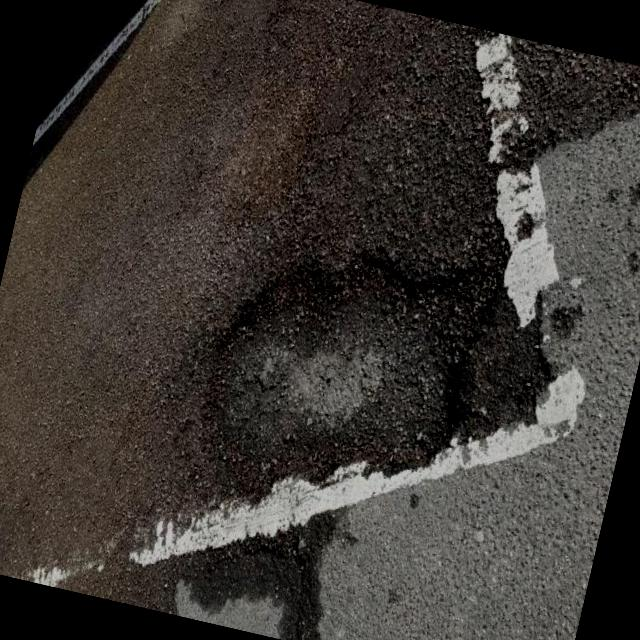pothole: (190, 188, 500, 510)
